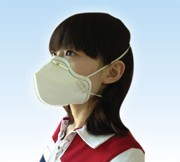face_mask: (48, 37, 101, 107)
